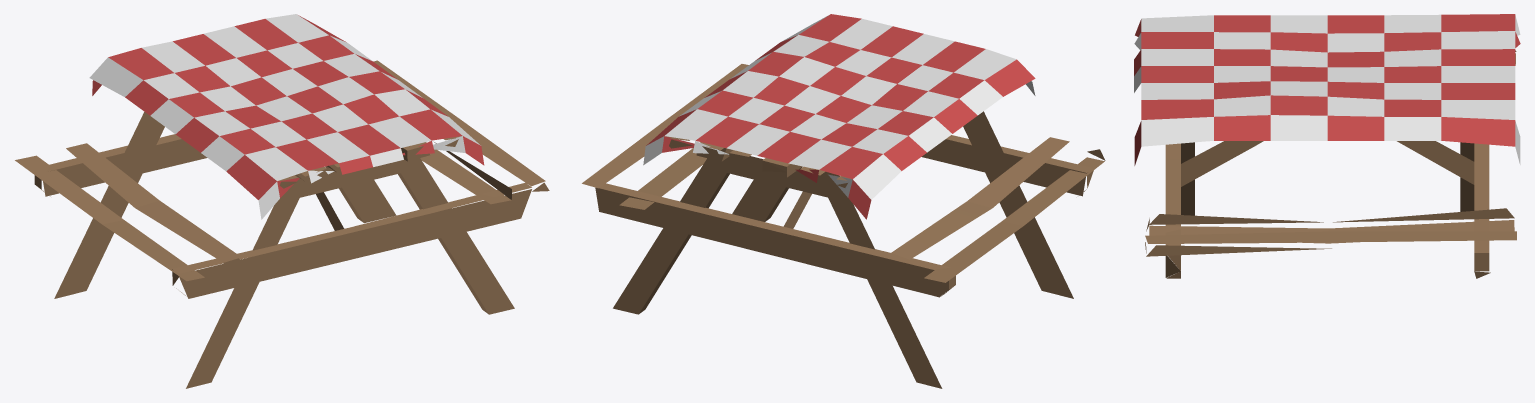
File: picnic-table.glb
3 renders of one model, left to right at view 1: azimuth 30°, elevation 25°; view 2: azimuth 150°, elevation 25°; view 3: azimuth 270°, elevation 25°, orthographic. The views are drawn at different scales.
Visible parts, largest first — view 1: Bench; view 2: Bench; view 3: Bench.
Boxes of the visible parts, x1,y1,x2,y2 form: Bench: (15, 14, 549, 388); Bench: (582, 14, 1105, 388); Bench: (1134, 14, 1520, 278).
Size of the model in its own units: 2.2 by 1.19 by 1.77.
